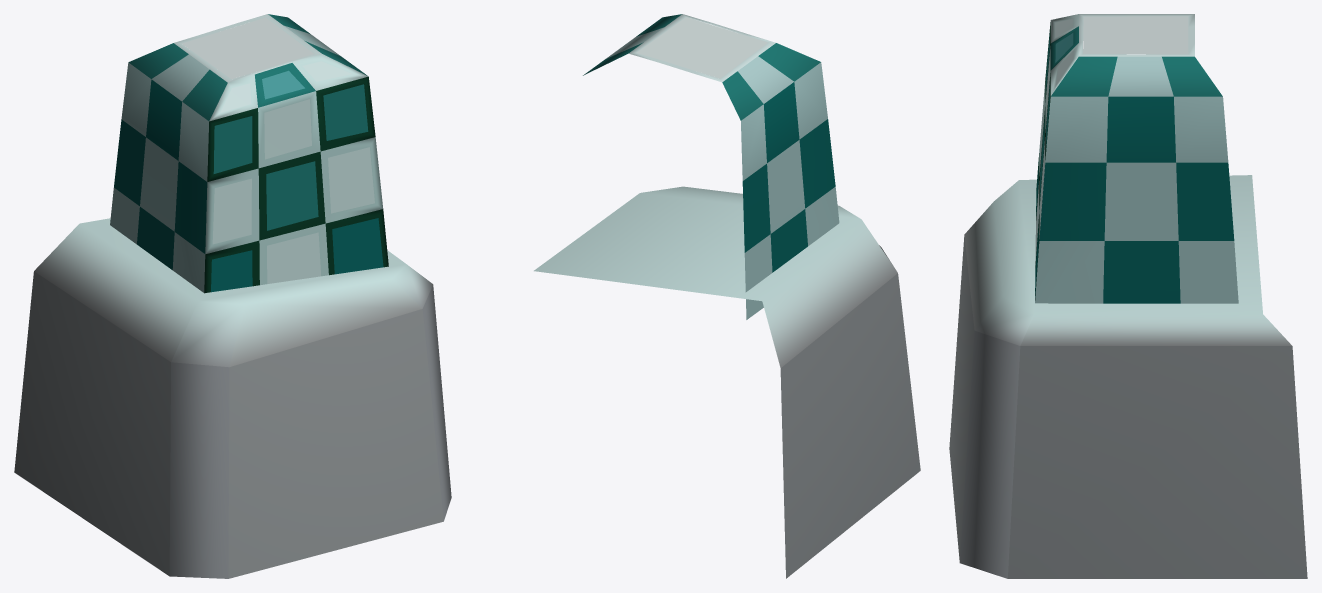
Rendered from RaceMarkerB.glb.
The picture shows the model from 3 angles, left to right: view 1: azimuth 30°, elevation 25°; view 2: azimuth 150°, elevation 25°; view 3: azimuth 270°, elevation 25°; orthographic projection. The views are drawn at different scales.
Parts seen in each view (by area): view 1: RaceMarkerB; view 2: RaceMarkerB; view 3: RaceMarkerB.
Boxes of the visible parts, x1,y1,x2,y2 form: RaceMarkerB: [14, 14, 451, 578]; RaceMarkerB: [534, 14, 920, 578]; RaceMarkerB: [949, 14, 1307, 578].
Size of the model in its own units: 0.61 by 0.8549 by 0.5876.
